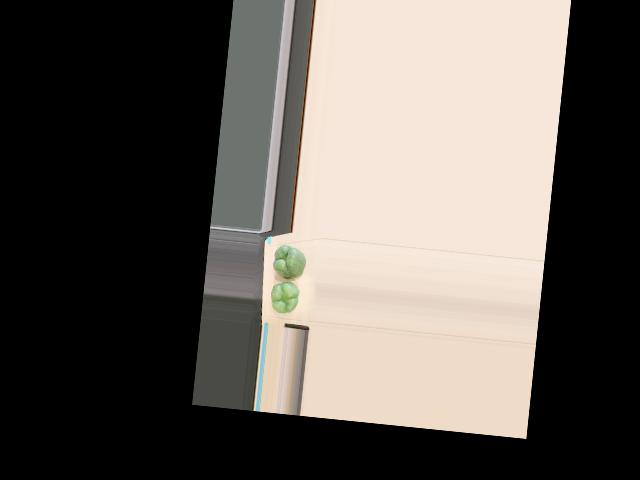bell_pepper: (268, 279, 304, 314)
